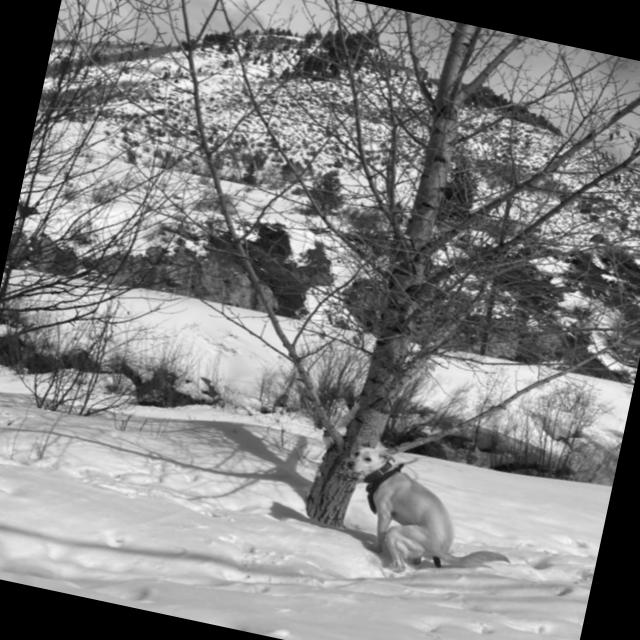squatting: (323, 432, 528, 596)
